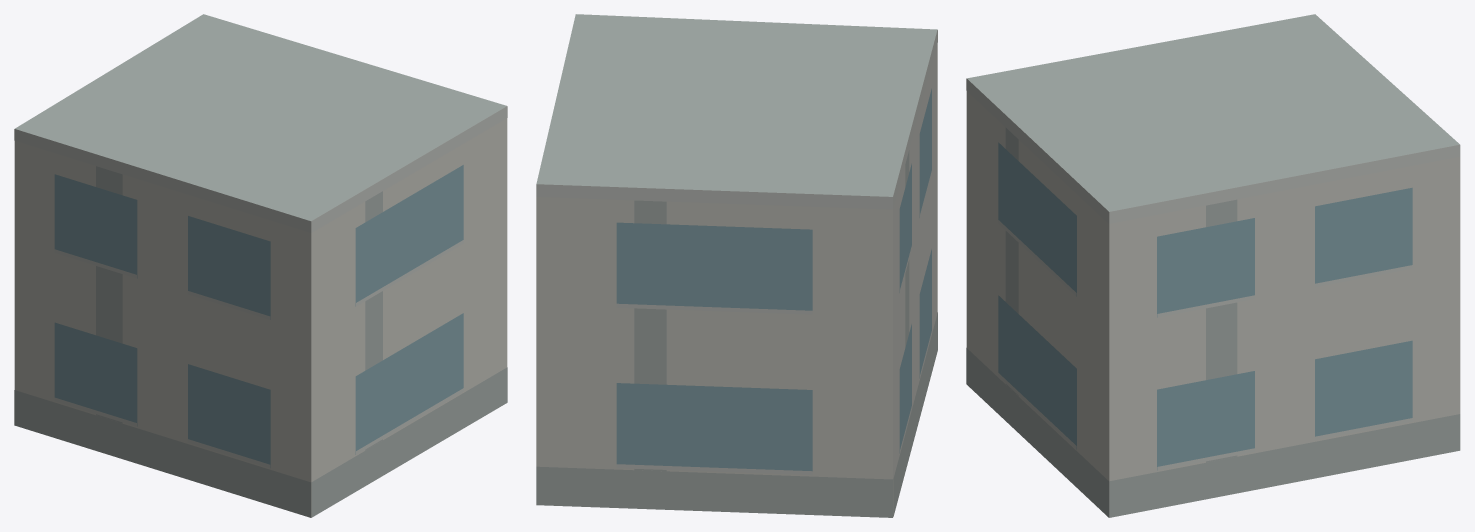
The model's file is survey-upis-32699278.glb.
3 renders of one model, left to right at view 1: azimuth 30°, elevation 25°; view 2: azimuth 150°, elevation 25°; view 3: azimuth 270°, elevation 25°, orthographic. The views are drawn at different scales.
Parts seen in each view (by area): view 1: survey-upis-32699278.tmp; view 2: survey-upis-32699278.tmp; view 3: survey-upis-32699278.tmp.
Boxes of the visible parts, x1,y1,x2,y2 form: survey-upis-32699278.tmp: (14, 14, 507, 517); survey-upis-32699278.tmp: (536, 14, 937, 517); survey-upis-32699278.tmp: (966, 14, 1460, 517).
Size of the model in its own units: 8.47 by 6.1 by 8.93.
